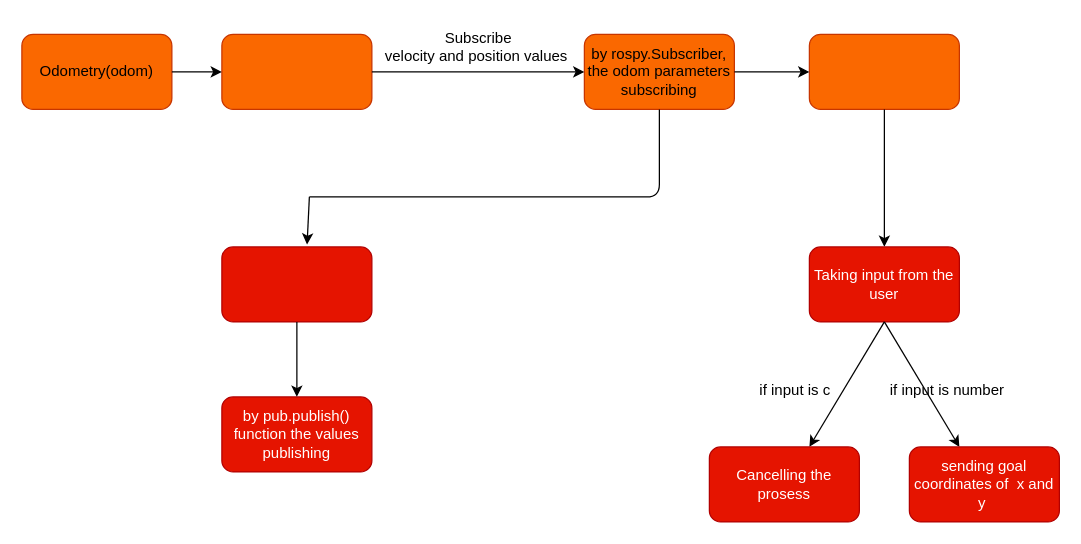
The diagram is 1081 pixels wide and 544 high, and some of its shapes have lost their labels. Here are the shapes that lost their labels. From the top down, the centre of each, then its label:
(296,71): action_usr.py
(883,71): Calling the action_client function
(296,284): getting the position x,y and velocity x,y from message
